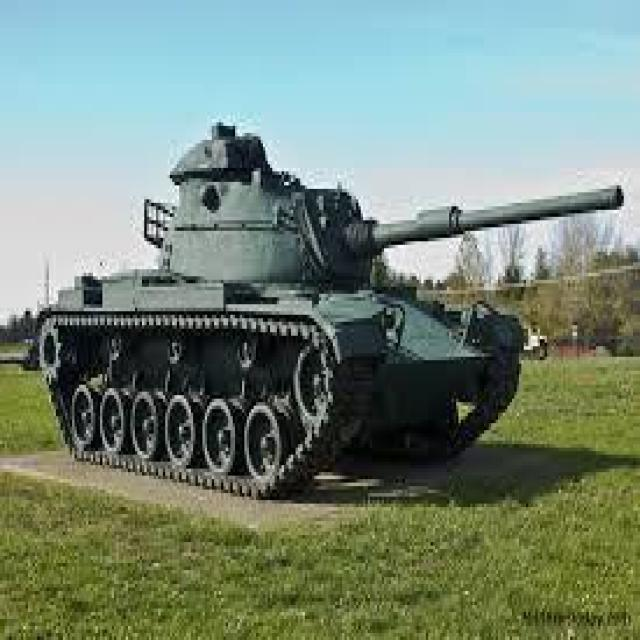Tanks: (29, 112, 632, 500)
